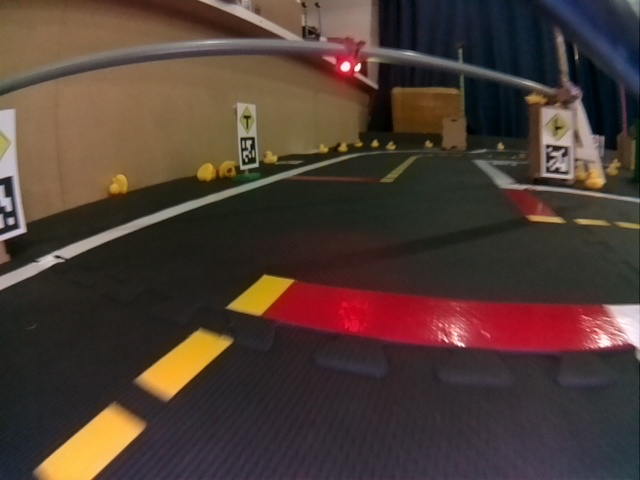Duckie: (220, 161, 237, 178), (197, 165, 214, 181), (111, 176, 127, 192), (264, 152, 277, 163), (319, 143, 327, 154), (339, 142, 346, 151)
Intersection sign: (544, 111, 572, 141), (239, 105, 256, 134)
QR code: (1, 176, 21, 237), (542, 147, 573, 175), (241, 138, 258, 168)
Traffic light: (336, 37, 364, 76)
